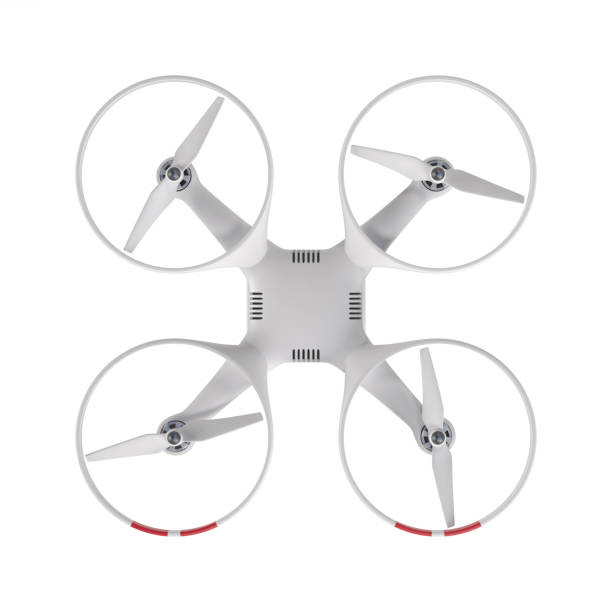Drone: (63, 59, 558, 552)
